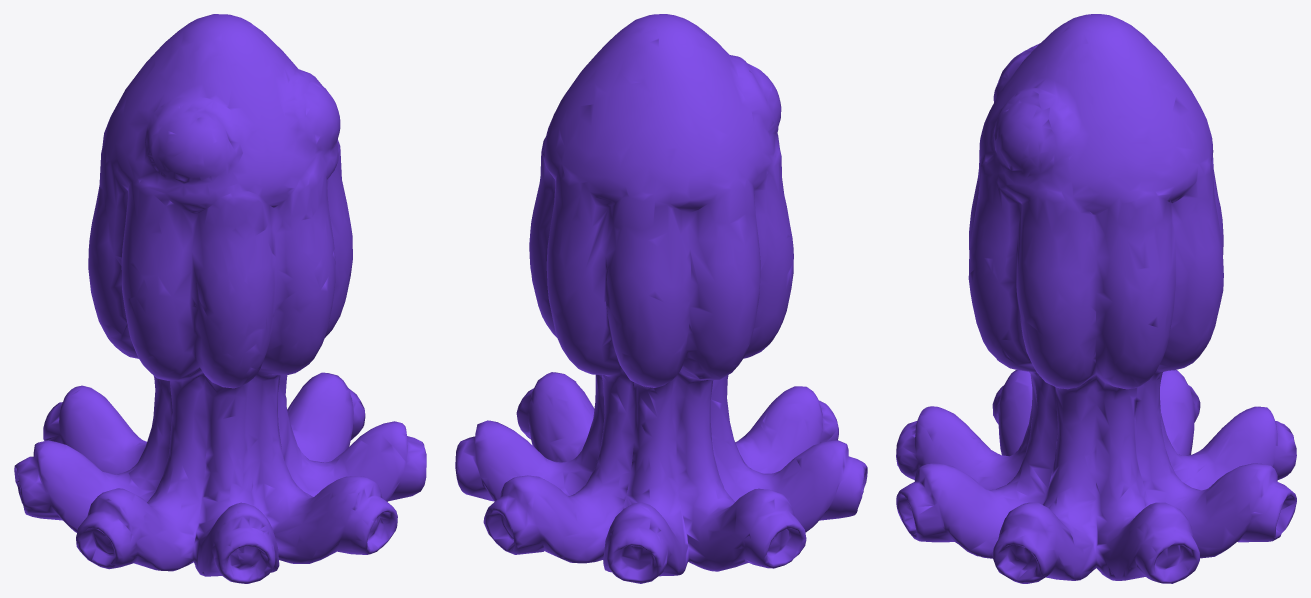
File: small-ar.glb
3 views of the same model, side by side, from view 1: azimuth 30°, elevation 25°; view 2: azimuth 150°, elevation 25°; view 3: azimuth 270°, elevation 25° (orthographic).
Bounding box in the file's own units: 0.0694 × 0.097 × 0.0694.
